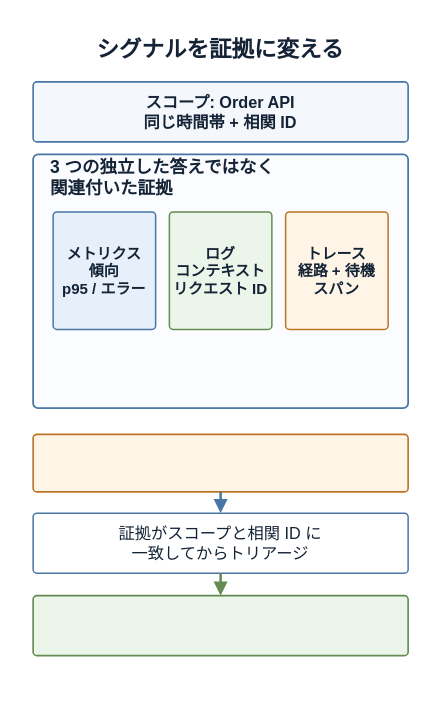
This 441x723 diagram has some shape labels left out. Each missing label, with the box of its shape:
アラート: しきい値超過 調査を開始し、原因を断定しない: (32, 433, 408, 492)
安全な是正: 変更を限定 同じシグナルを再観測: (32, 594, 408, 656)
